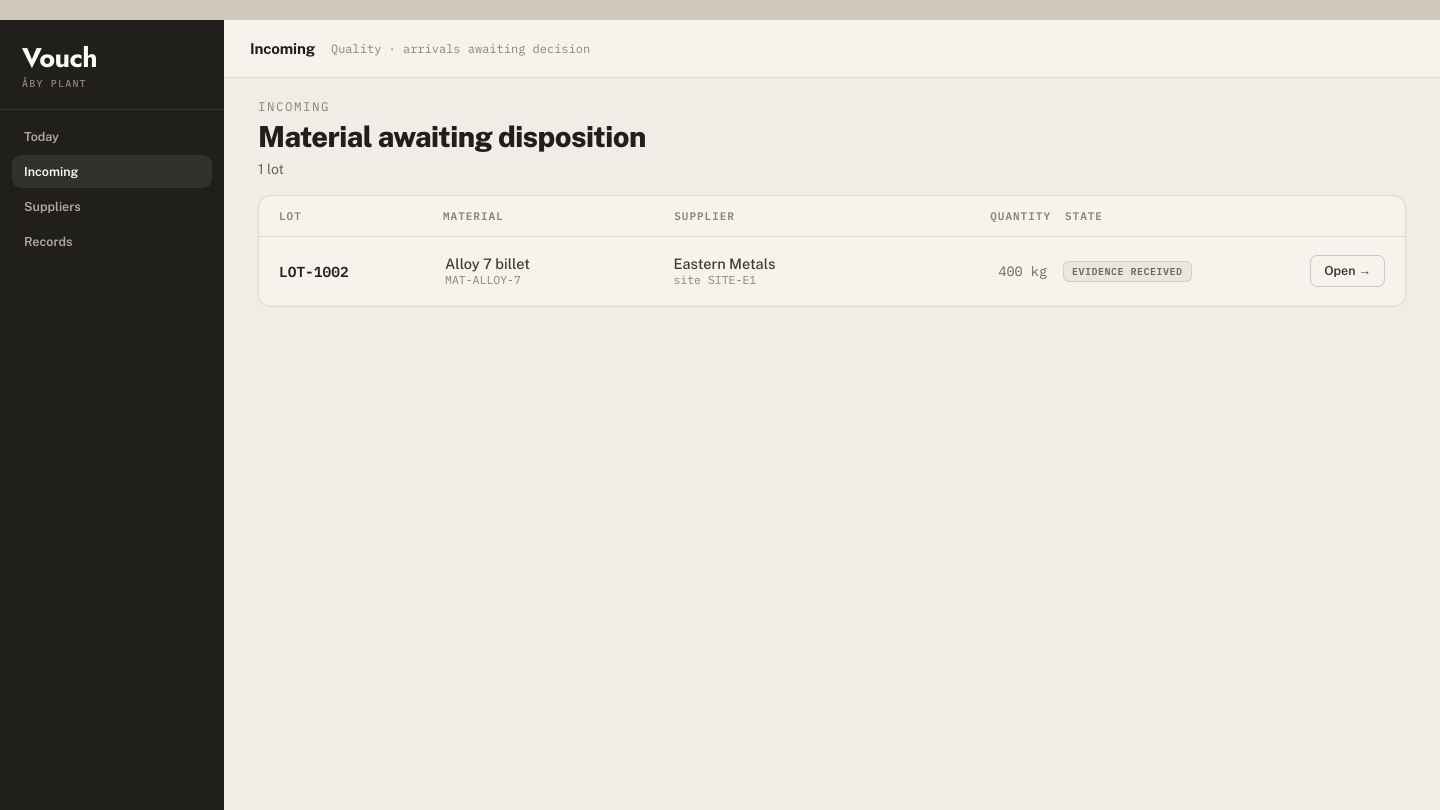
Test: an active run survives navigation › starting a run routes by decision id, and carries the lot in the body
Expected: the element with test id "incoming-page" is shown, [224,78,1439,367]
Click the button with test id "incoming-row".
click(1348, 271)  # box [1310,255,1385,287]
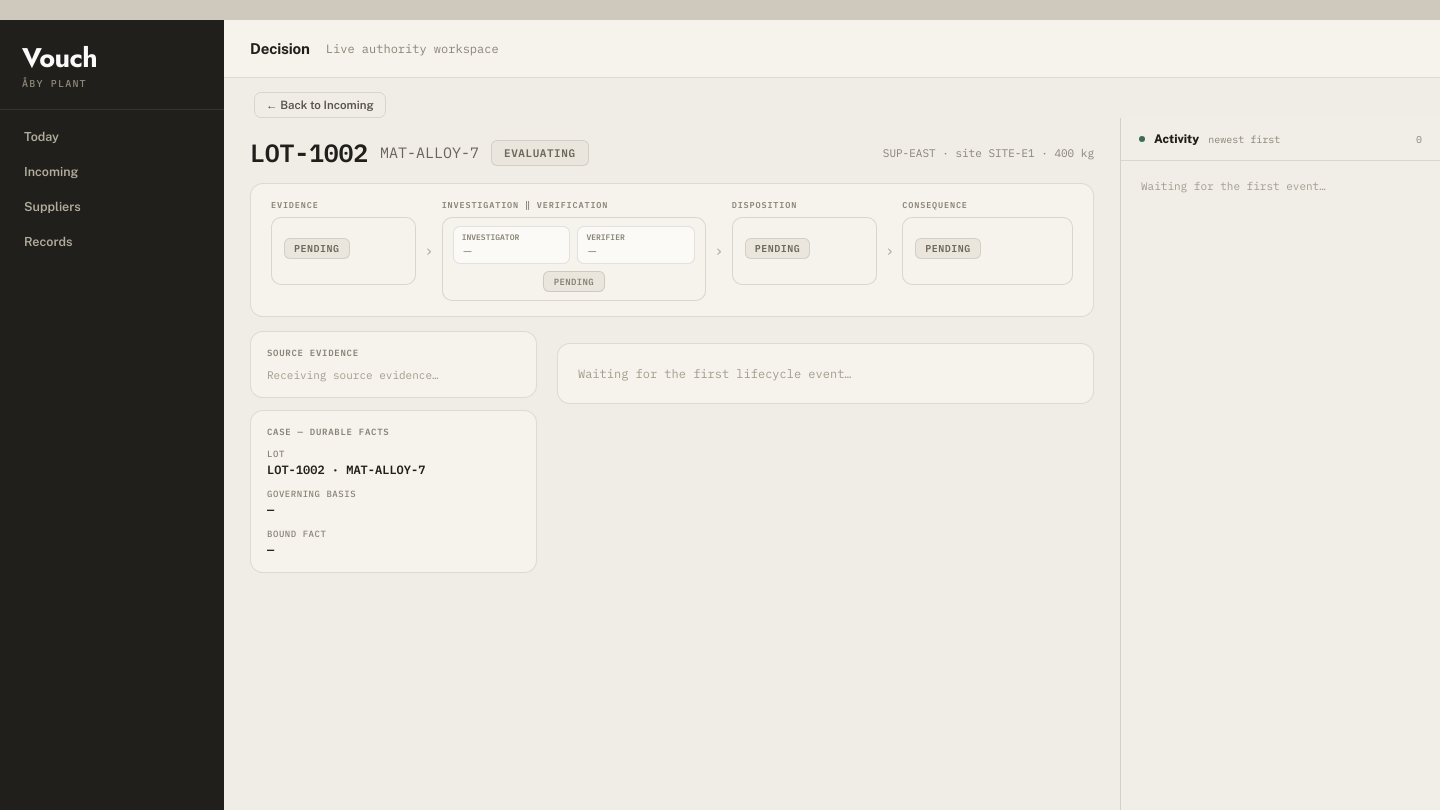
Expected: the text "LOT-1002" is shown, [250,136,368,169]
